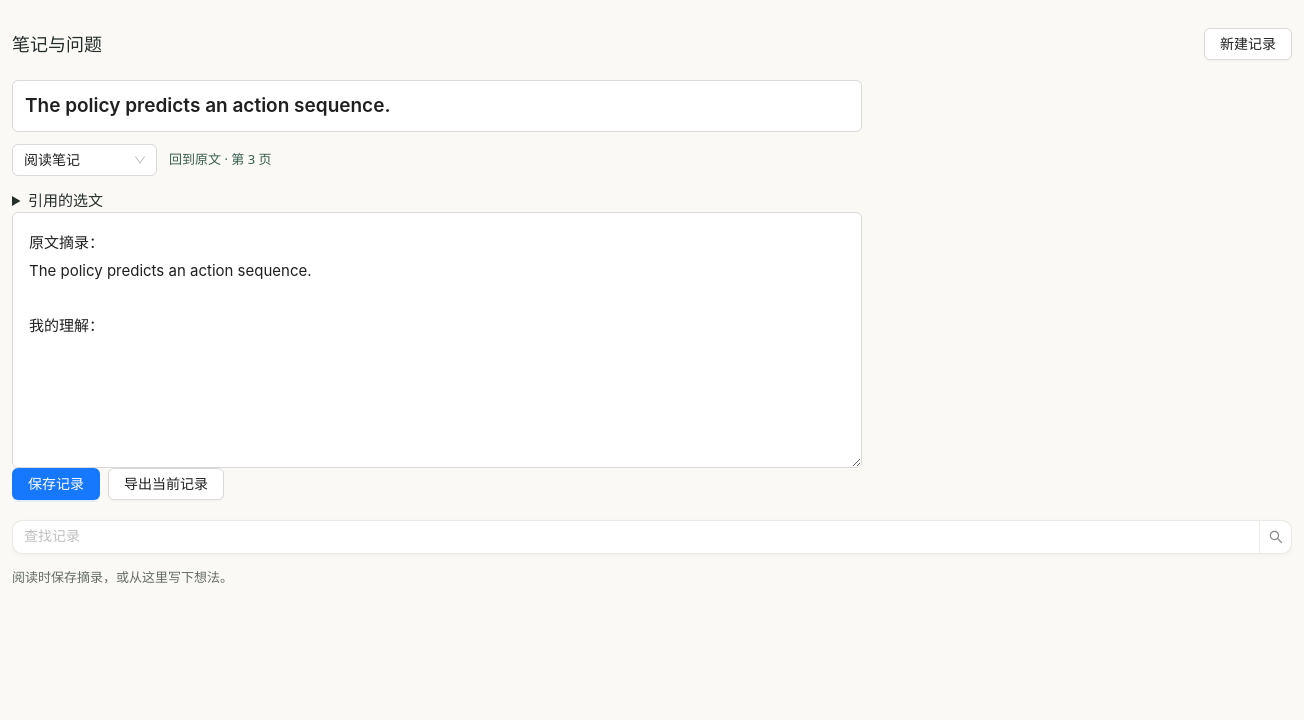
Test: StrictMode effect replay preserves an initial selected-text draft and its saved source
Expected: the field named "记录标题" holds "The policy predicts an action sequence.", [12, 80, 862, 132]
Replace the text in the text box named "记录内容" with "My explanation of this selected passage.": (437, 340) [12, 212, 862, 468]
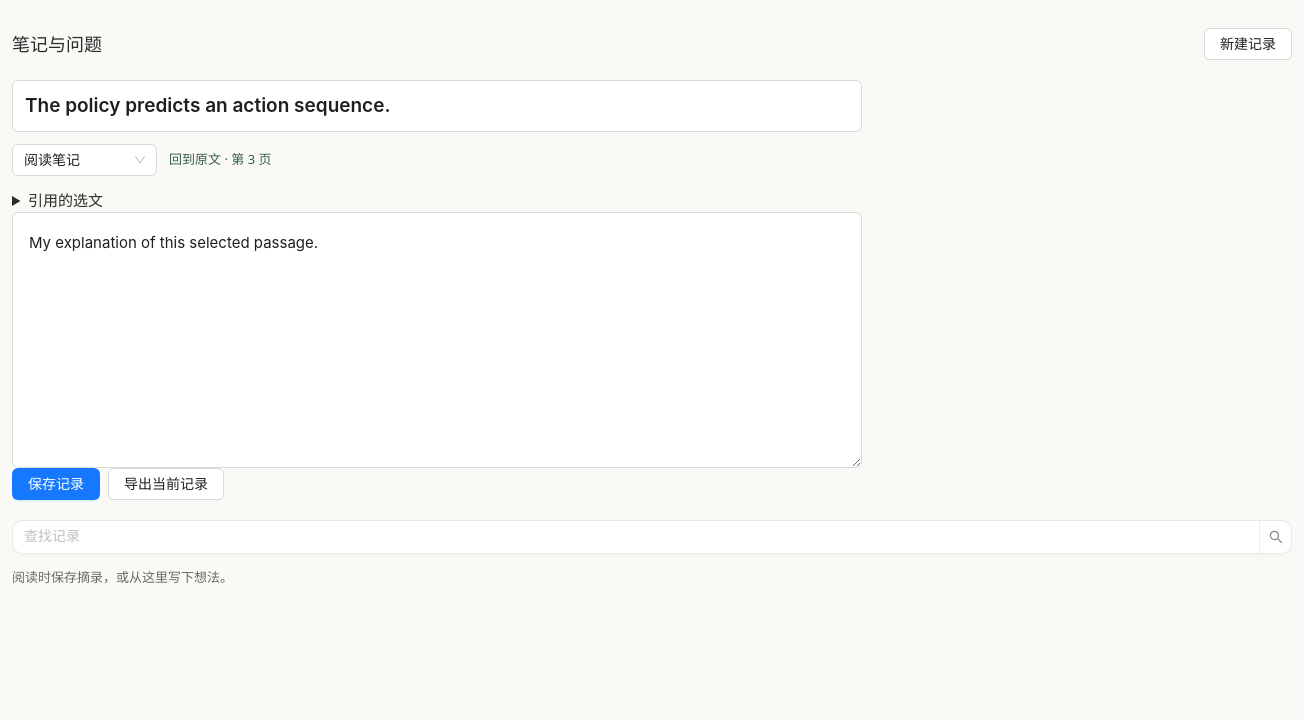
Click the button "保存记录": (56, 484) [12, 468, 100, 500]
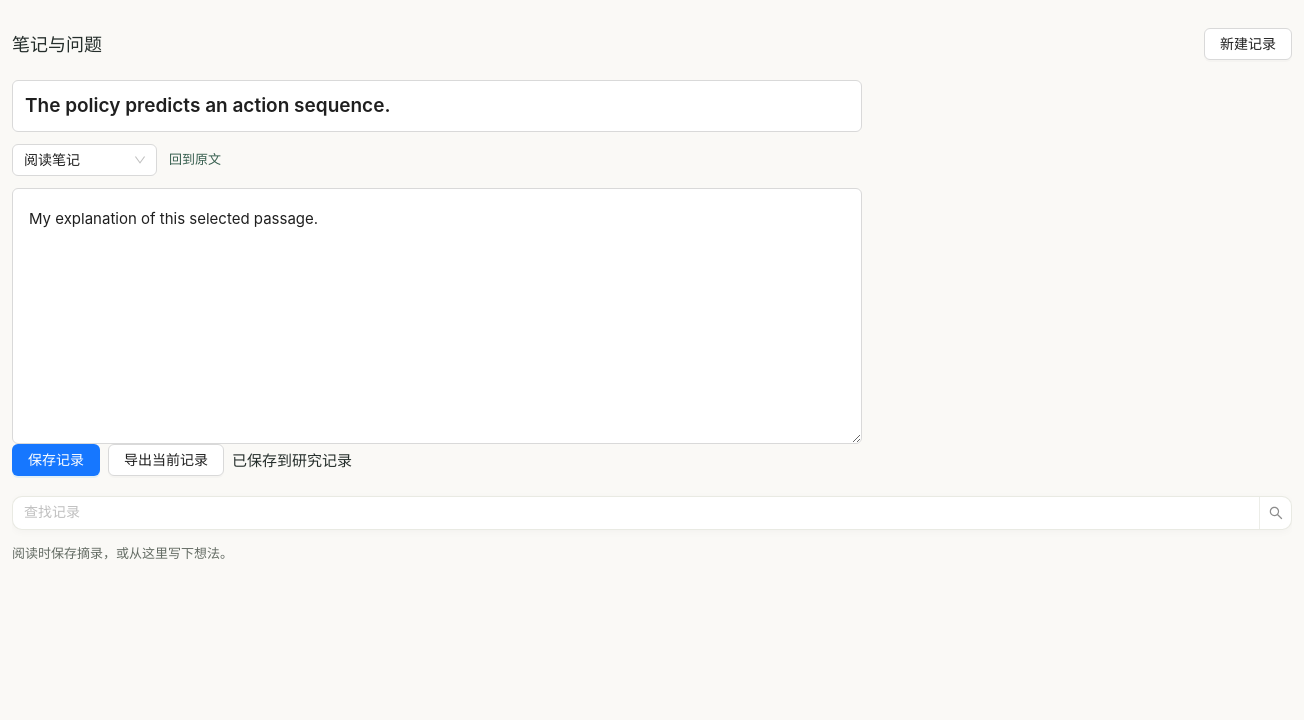
Result: the text "已保存到研究记录" is shown at [232, 450, 352, 470]
